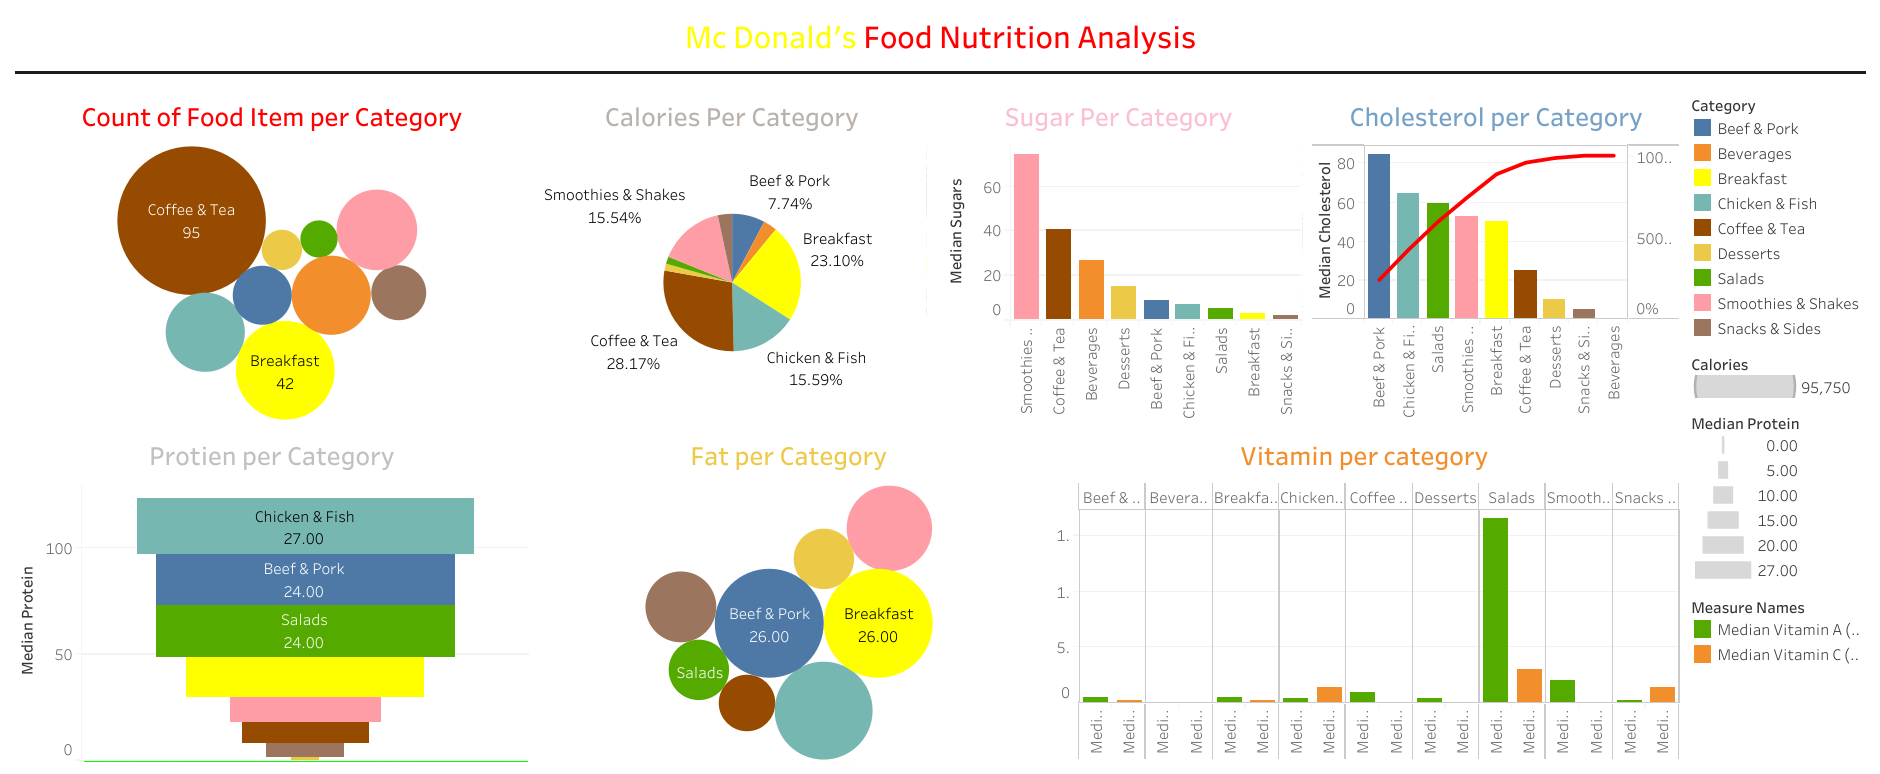

The dashboard page shown, as its layout file describes it:
{"tool":"tableau","page":{"name":"Dashboard 1","canvas":[1000,1000],"units":"permille","ordinal":0},"visuals":[{"type":"title","box":[4.8,9.4,990.3,45.8]},{"type":"blank","box":[4.8,55.2,990.3,25.9]},{"type":"worksheet","title":"Count of food item","mark":"Circle","box":[4.8,81.1,281.8,454.8]},{"type":"worksheet","title":"Calories per category","mark":"Pie","box":[286.7,81.1,213,454.7]},{"type":"worksheet","title":"Sugar Per Category","mark":"Automatic","rows":["Sugars"],"cols":["Category"],"box":[499.7,81.1,202.8,454.7]},{"type":"worksheet","title":"Cholesterol","mark":"Automatic","rows":["Cholesterol","Cholesterol"],"cols":["Category"],"box":[702.5,81.1,202.8,454.7]},{"type":"legend","title":"Count of food item","param":"[federated.0ugtzqa1jhu0d2140s7v014tgdsp].[none:Category:nk]","box":[905.2,81.1,89.9,257.3]},{"type":"legend","title":"Calories per category","param":"[federated.0ugtzqa1jhu0d2140s7v014tgdsp].[sum:Calories:qk]","box":[905.2,338.4,89.9,59.9]},{"type":"legend","title":"Protien per category","param":"[federated.0ugtzqa1jhu0d2140s7v014tgdsp].[med:Protein:qk]","box":[905.2,398.4,89.9,183.3]},{"type":"worksheet","title":"Protien per category","mark":"Automatic","rows":["Protein"],"box":[4.8,535.8,281.8,454.8]},{"type":"worksheet","title":"Fat Per Category","mark":"Circle","box":[286.7,535.8,274,454.8]},{"type":"worksheet","title":"Vitamins per category","mark":"Automatic","cols":["Category"],"box":[560.6,535.8,344.6,454.8]},{"type":"legend","title":"Vitamins per category","param":"[federated.0ugtzqa1jhu0d2140s7v014tgdsp].[:Measure Names]","box":[905.2,581.7,89.9,84.6]}]}

Visuals, with their boxes on the dashboard's canvas, which has no fixed pixel size, in thousandths of its width and height (x1, y1, x2, y2). These are canvas units, not pixel positions in the 1880x774 screenshot, which may show the page scaled, cropped or inside an application window:
title: bbox(5, 9, 995, 55)
blank: bbox(5, 55, 995, 81)
"Count of food item" worksheet (Circle marks): bbox(5, 81, 287, 536)
"Calories per category" worksheet (Pie marks): bbox(287, 81, 500, 536)
"Sugar Per Category" worksheet: bbox(500, 81, 702, 536)
"Cholesterol" worksheet: bbox(702, 81, 905, 536)
"Count of food item" legend: bbox(905, 81, 995, 338)
"Calories per category" legend: bbox(905, 338, 995, 398)
"Protien per category" legend: bbox(905, 398, 995, 582)
"Protien per category" worksheet: bbox(5, 536, 287, 991)
"Fat Per Category" worksheet (Circle marks): bbox(287, 536, 561, 991)
"Vitamins per category" worksheet: bbox(561, 536, 905, 991)
"Vitamins per category" legend: bbox(905, 582, 995, 666)
